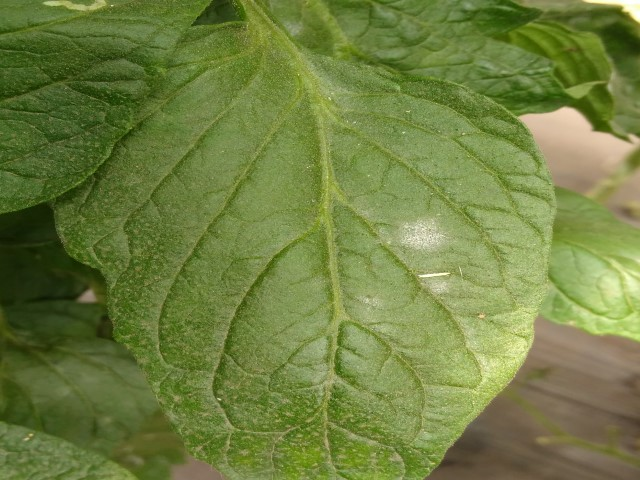blanca: (391, 207, 450, 254), (427, 279, 457, 300)
